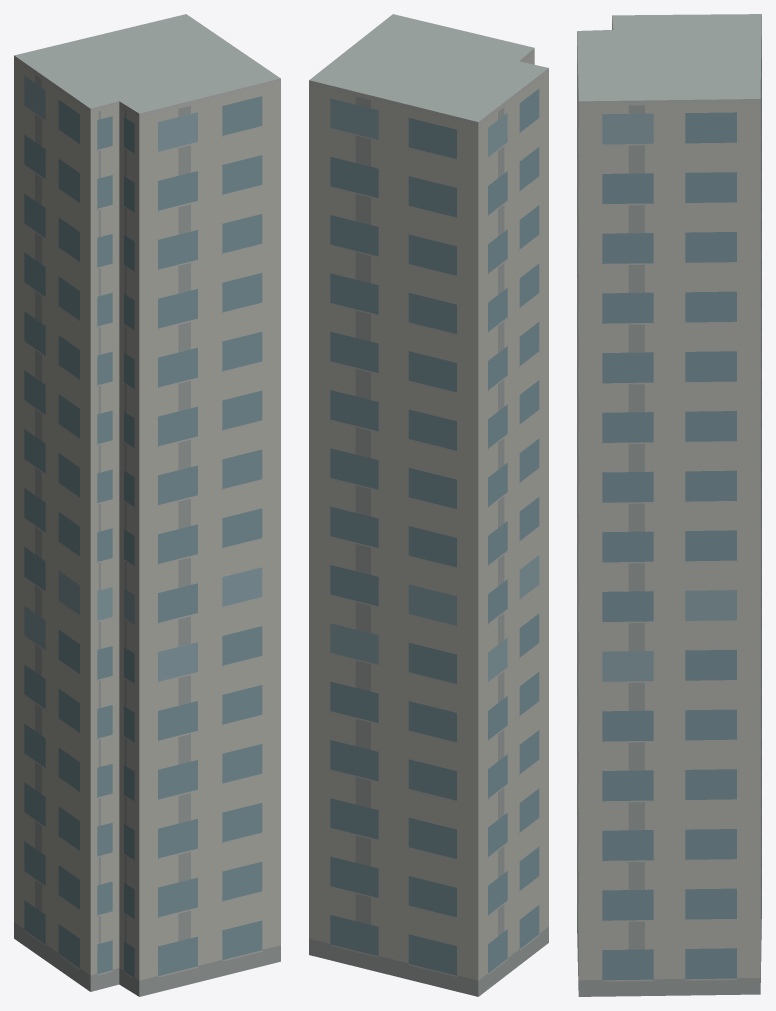
The model's file is survey-upis-32749273.glb.
3 views of the same model, side by side, from view 1: azimuth 30°, elevation 25°; view 2: azimuth 150°, elevation 25°; view 3: azimuth 270°, elevation 25° (orthographic). The views are drawn at different scales.
Parts seen in each view (by area): view 1: survey-upis-32749273.tmp; view 2: survey-upis-32749273.tmp; view 3: survey-upis-32749273.tmp.
Part boxes in pixels (x1,y1,x2,y2): survey-upis-32749273.tmp: (14,14,280,996); survey-upis-32749273.tmp: (309,14,548,996); survey-upis-32749273.tmp: (577,14,761,996).
Bounding box in the file's own units: 9.58 × 45.75 × 8.56.
